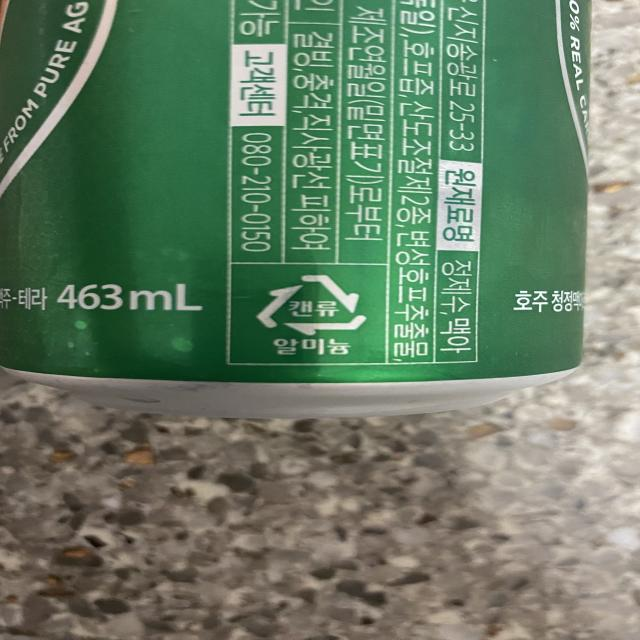Can: (254, 270, 370, 337)
